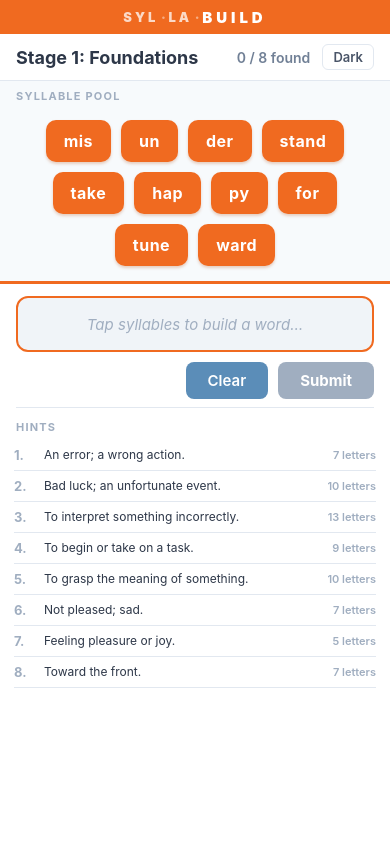
Scenario: GameScreen — syllable selection › tapping multiple syllables builds the correct preview
Click the text "mis" at {"x": 78, "y": 141}, box [64,131,93,151]
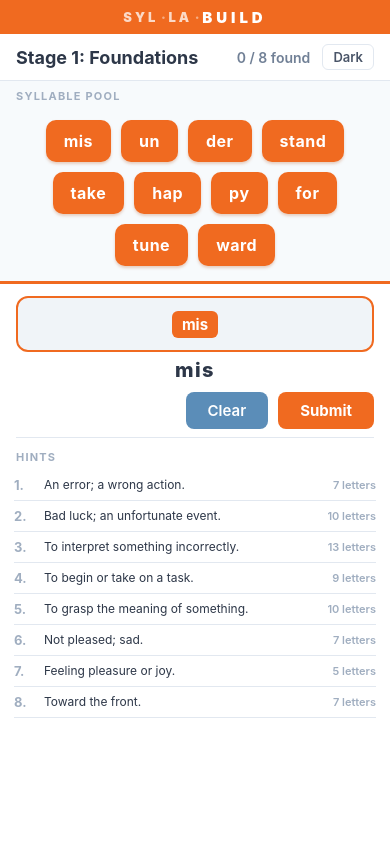
Click the text "take" at {"x": 88, "y": 193}, box [71,183,106,203]
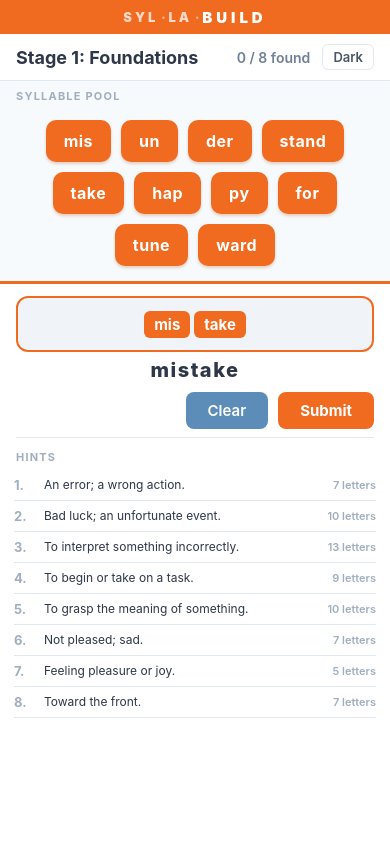
Expected: the text "mistake" is shown, [150,358,240,382]
